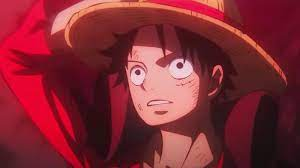luffy: (59, 1, 290, 132)
